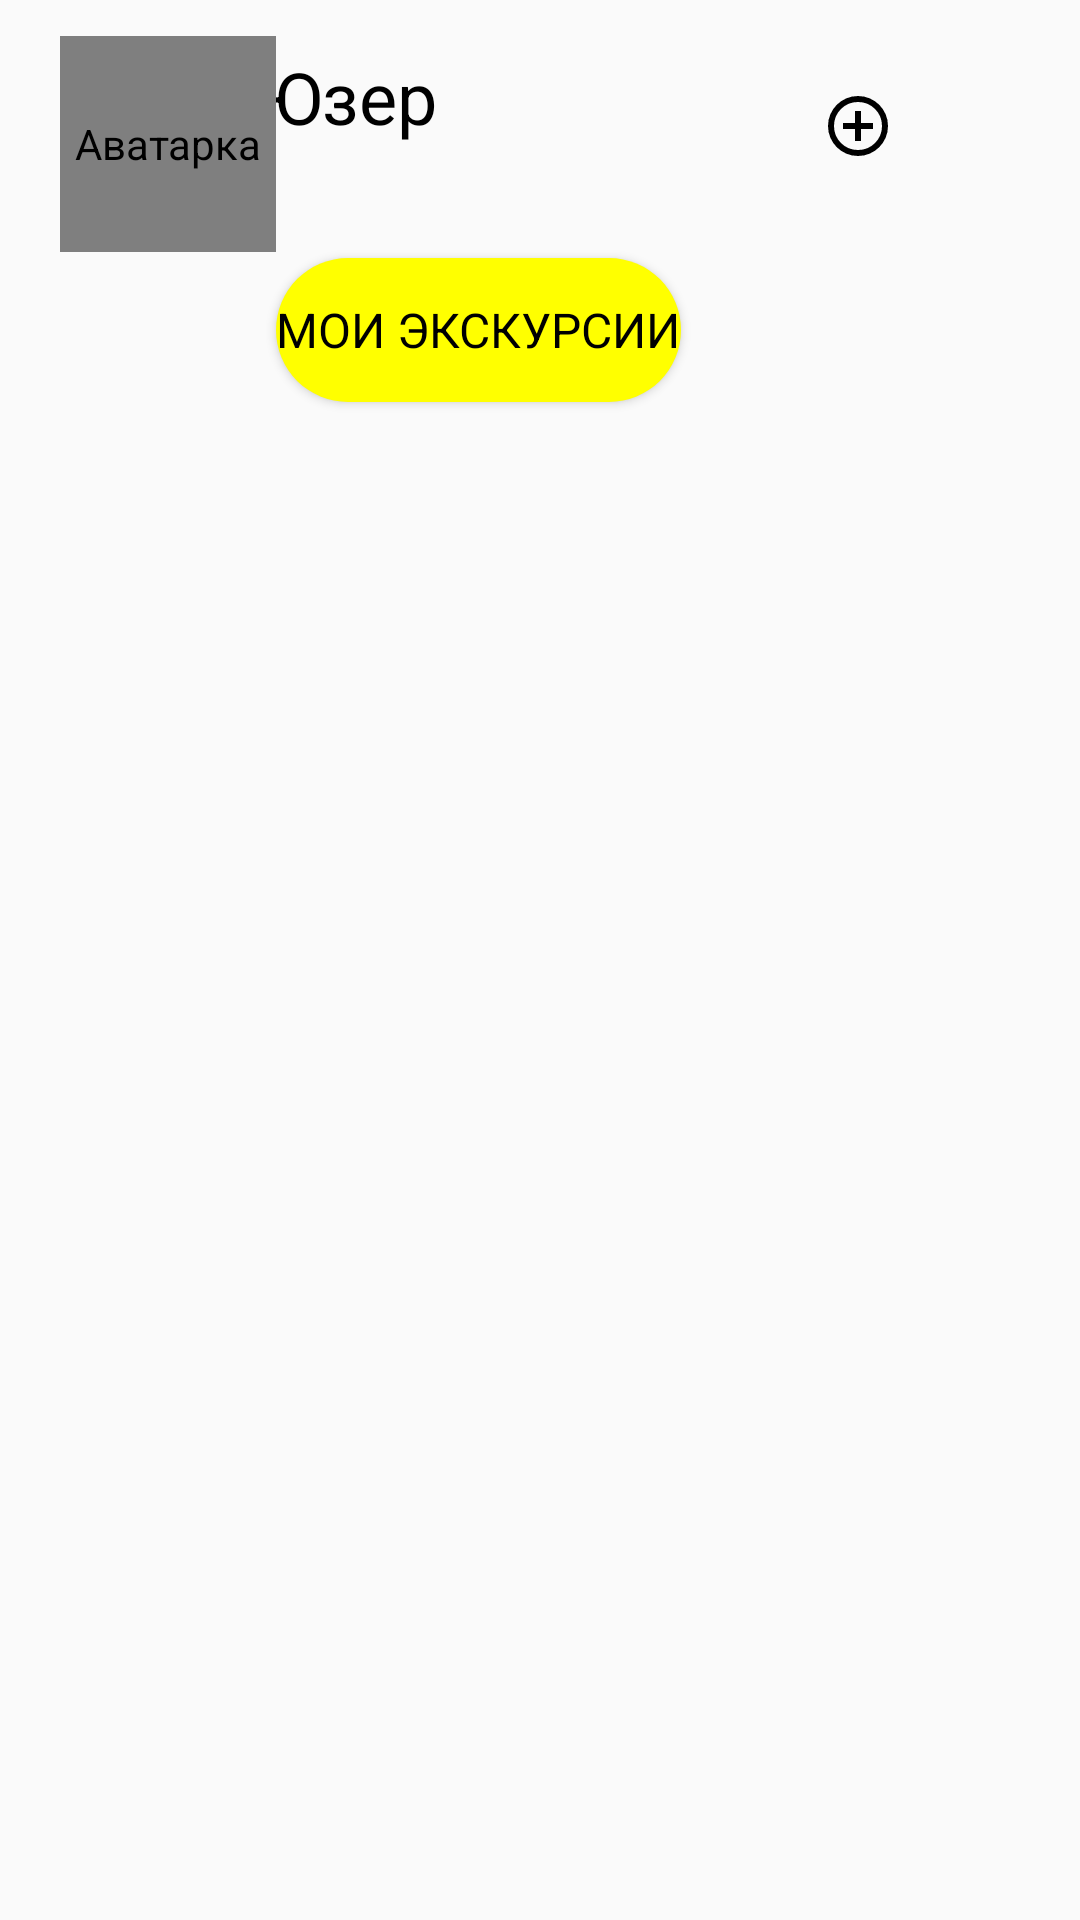

Icons on this 1080 x 1920 Android screen, each with its box as (x1, y1, x2, y2):
Создать экскурсию: (828, 96, 888, 156)
